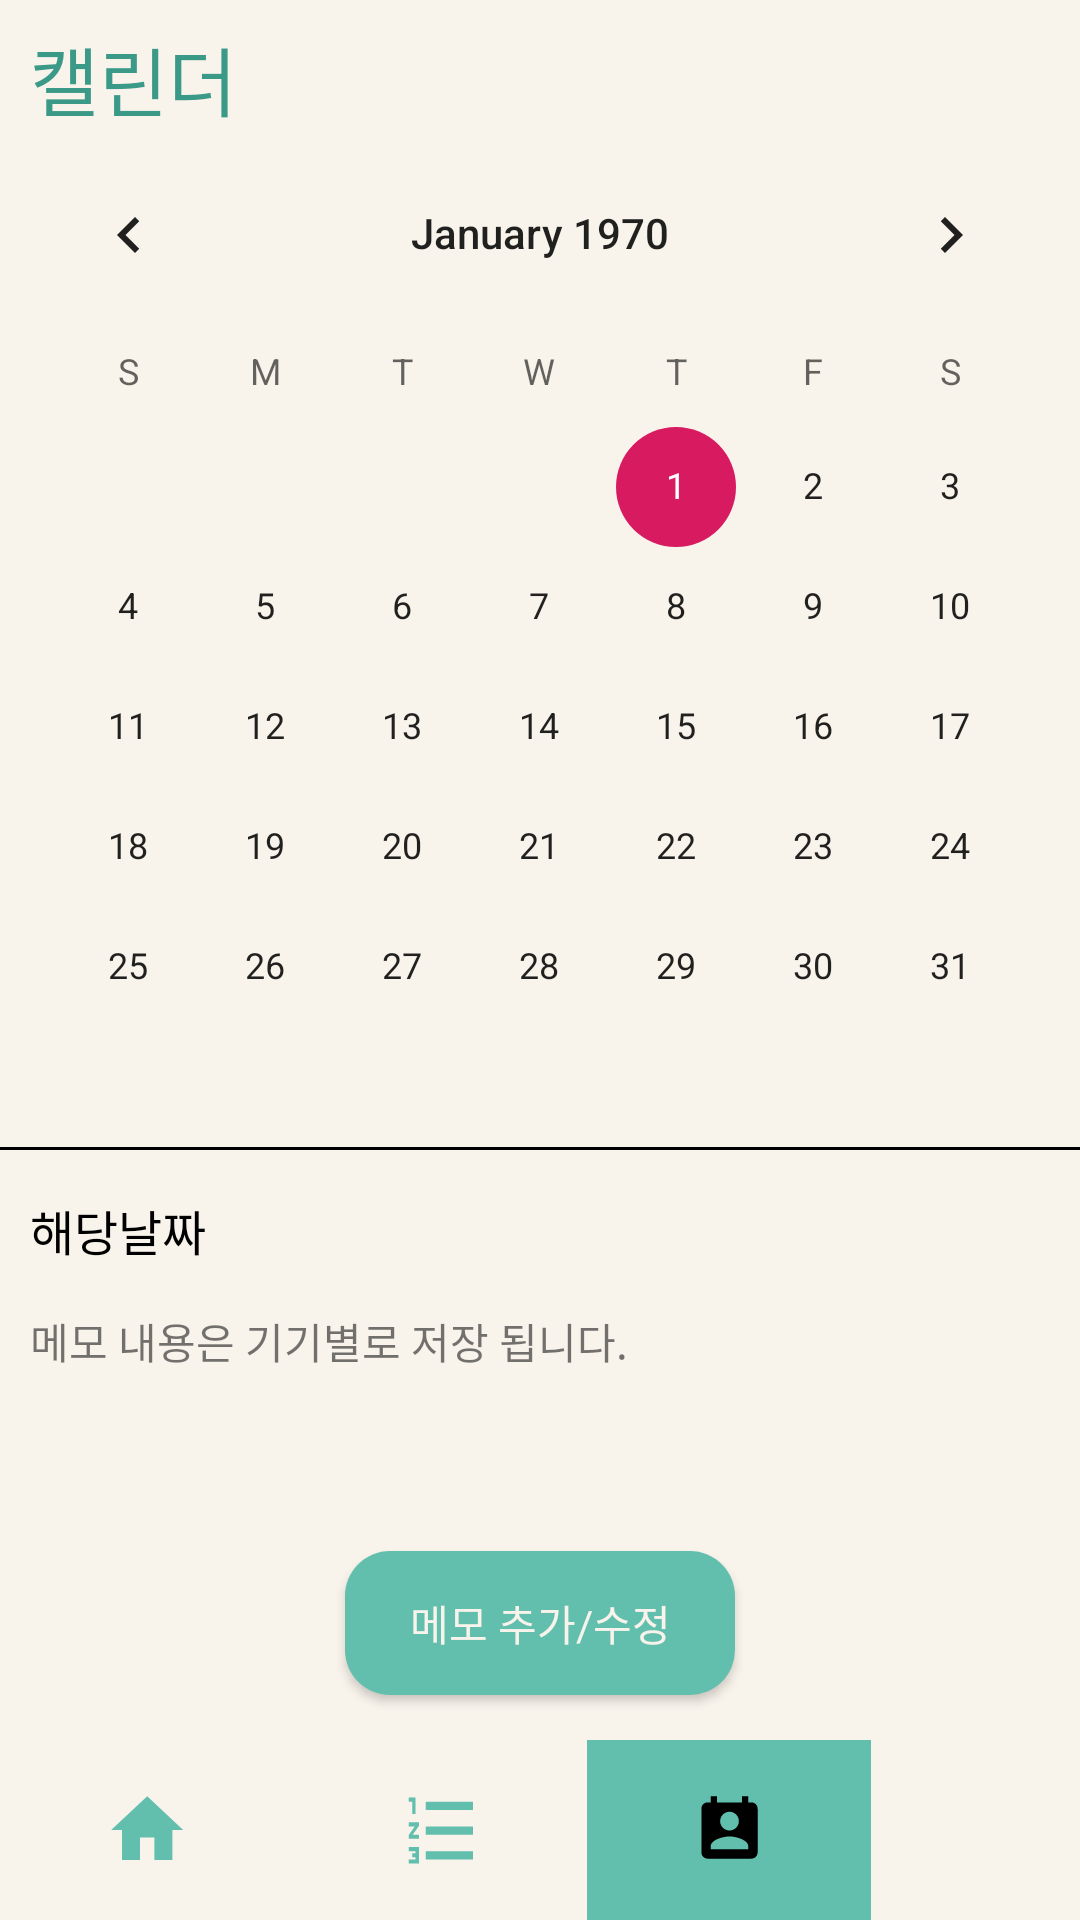

Named icons in this screenshot (1080×1920) and their bounding boxes, (x1, y1, x2, y2):
bottom menu detail: (408, 1797, 473, 1864)
bottom menu home: (111, 1796, 183, 1860)
